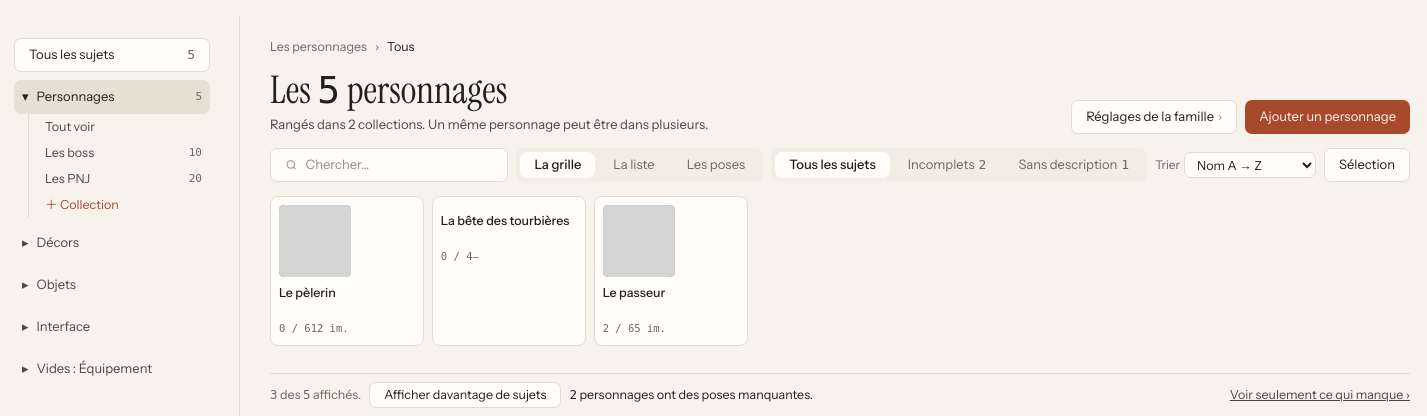
la vue « Les poses » › elle montre une colonne par pose, et une case vide — pas un zéro — pour ce qui manque
(page scrolled)
Check: the heading "Les 5 personnages" is shown, box x1=270 y1=65 x2=507 y2=115
Click the tab "Les poses". click: (716, 165)
box: x1=673 y1=152 x2=759 y2=178
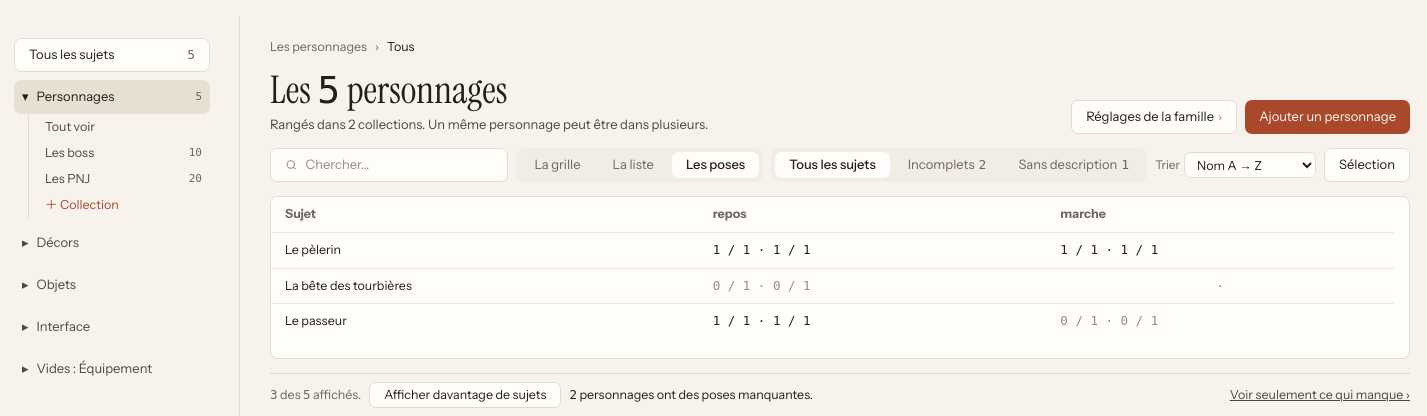
Check: the cell "·" is shown, box x1=1046 y1=268 x2=1394 y2=304
Check: the column heading "repos" is shown, box x1=699 y1=197 x2=1046 y2=232
Check: the column heading "marche" is shown, box x1=1046 y1=197 x2=1394 y2=232
